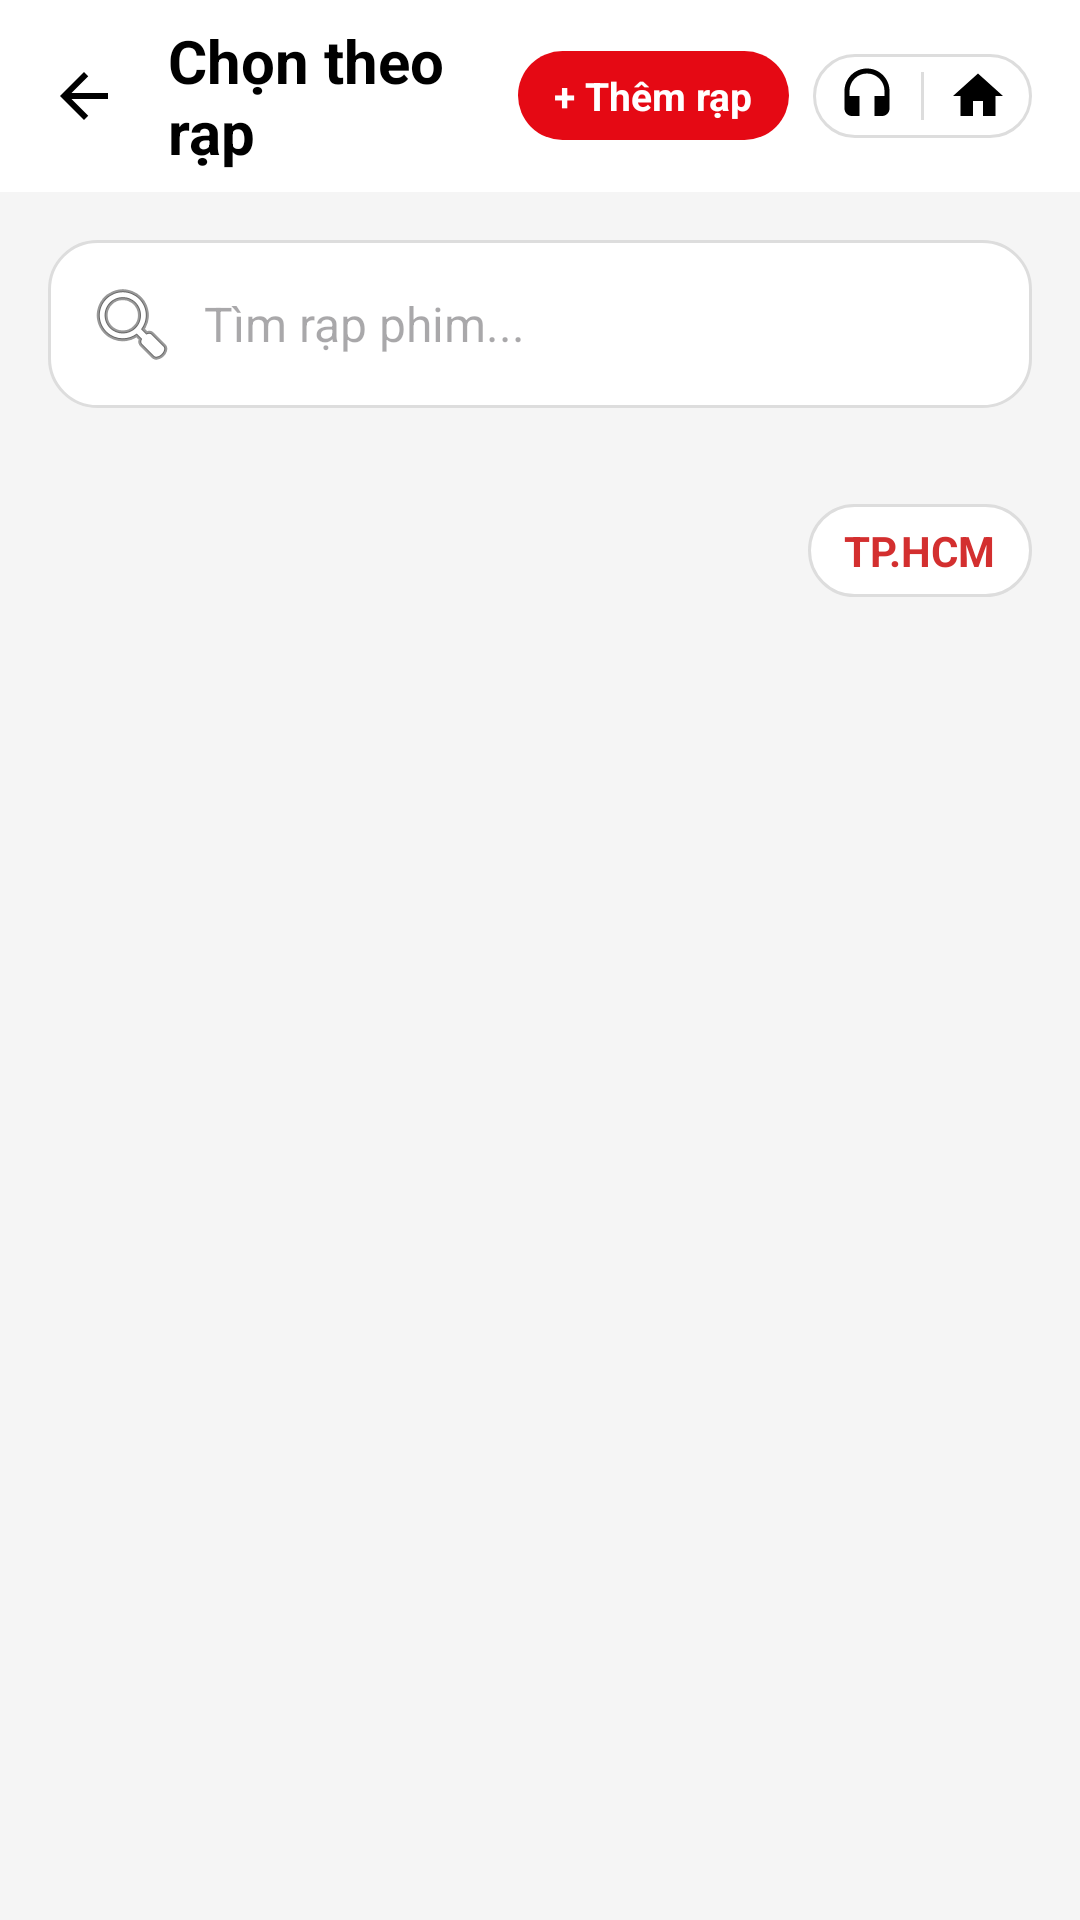

Icon click points for this 1080 x 1920 phone screenshot, format point (x, y):
arrow back: point (84, 96)
headset: point (867, 92)
home top: point (978, 94)
